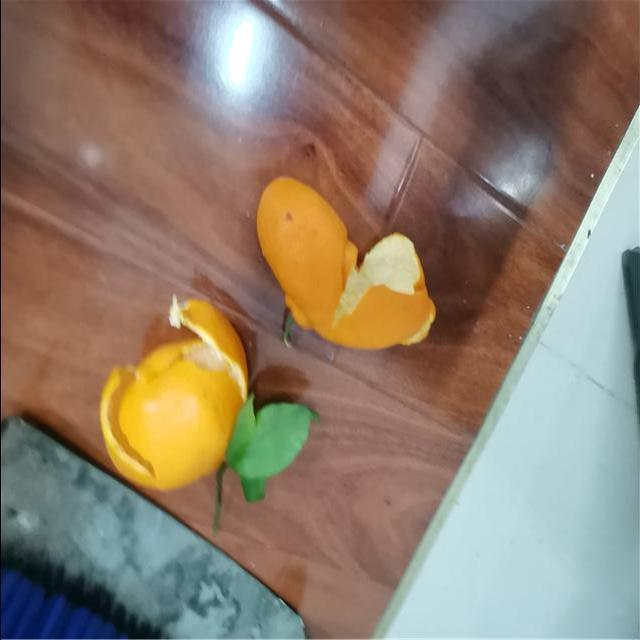orange peel: (252, 169, 436, 355), (96, 300, 253, 503)
